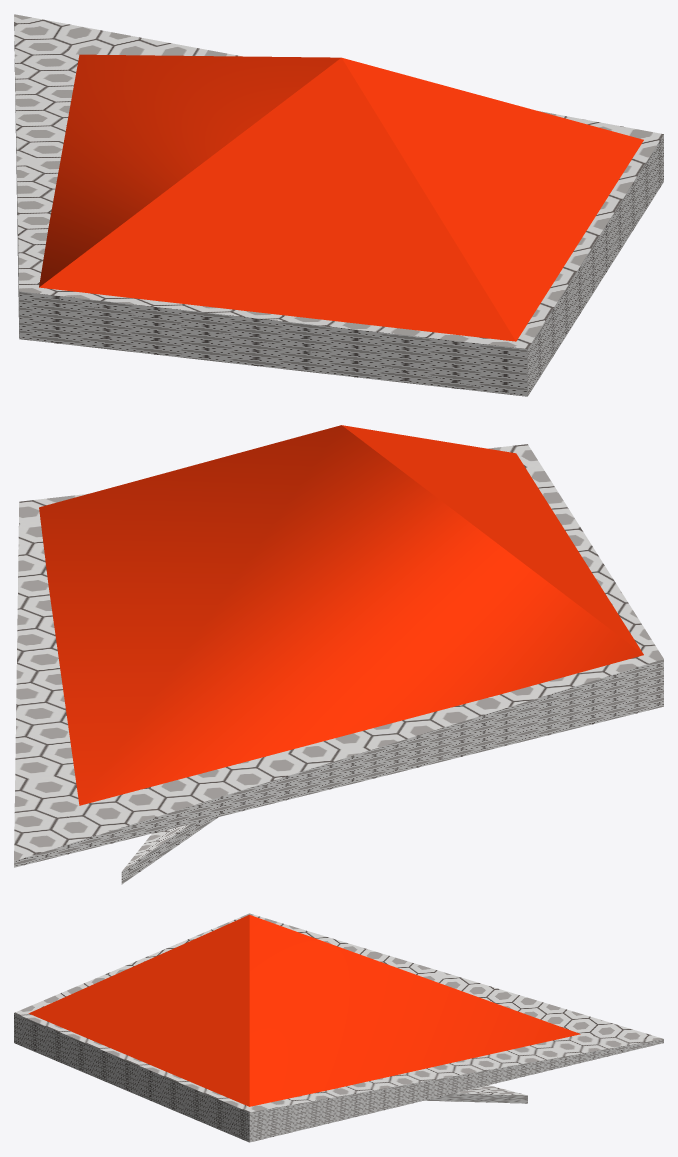
The model's file is DroneTypeA.fbx.
3 renders of one model, top to bottom at view 1: azimuth 30°, elevation 25°; view 2: azimuth 150°, elevation 25°; view 3: azimuth 270°, elevation 25°, orthographic. The views are drawn at different scales.
Parts seen in each view (by area): view 1: top, under_base; view 2: top, under_base; view 3: top, under_base.
Boxes of the visible parts, <box> form: top: <box>39,54,643,341</box>; under_base: <box>14,14,663,396</box>; top: <box>39,425,643,805</box>; under_base: <box>14,444,663,884</box>; top: <box>28,914,580,1106</box>; under_base: <box>14,913,663,1142</box>.
Size of the model in its own units: 12.17 by 5.39 by 16.79.
